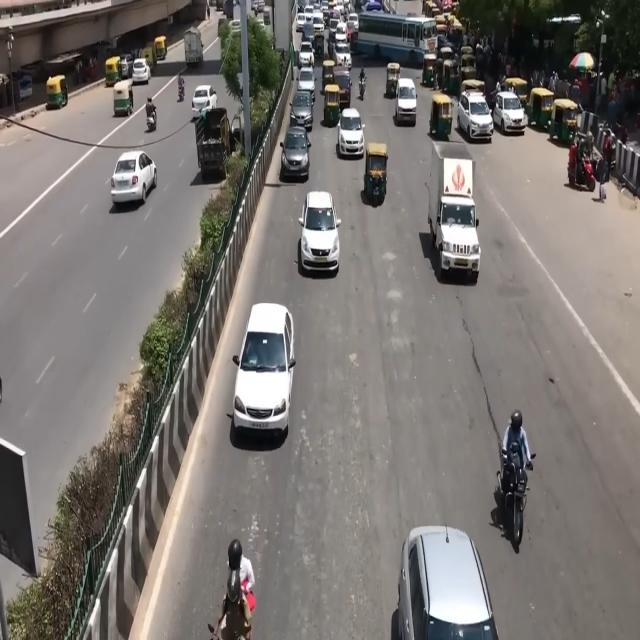auto: (363, 142, 389, 203), (549, 98, 579, 144), (527, 87, 555, 132), (428, 93, 453, 142), (502, 77, 529, 110), (113, 79, 135, 117), (323, 84, 342, 127), (46, 74, 68, 110), (385, 62, 401, 98), (105, 56, 121, 88), (322, 59, 336, 95), (140, 45, 155, 70), (154, 36, 167, 61)
bike-auto: (210, 543, 252, 640), (497, 444, 534, 545), (146, 96, 156, 130), (178, 74, 185, 100)
